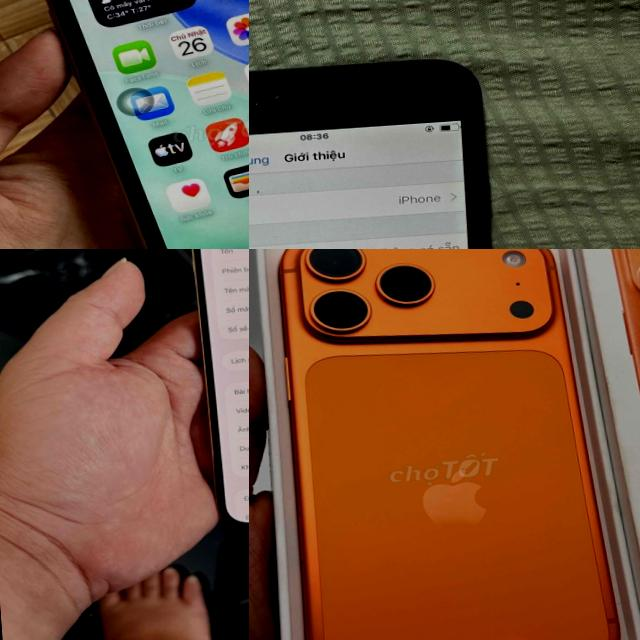gen_11: (46, 0, 249, 249)
gen_12_13: (179, 249, 249, 539)
gen_17: (265, 249, 640, 640)
gen_7_8: (249, 45, 534, 249)
